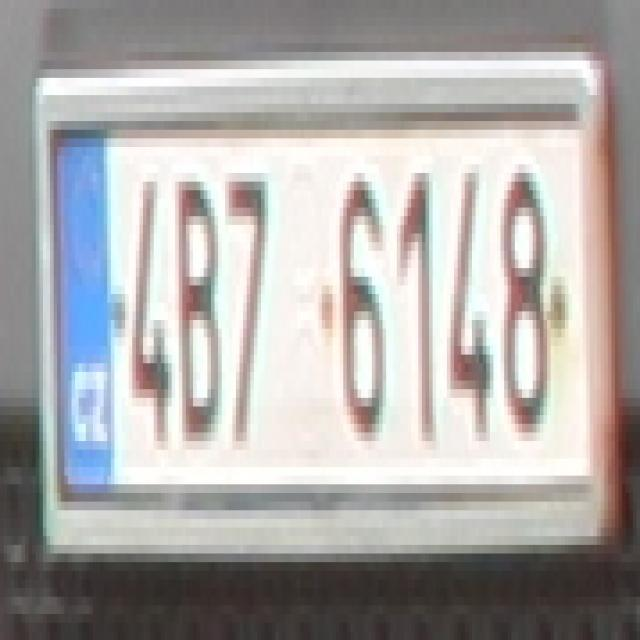1: (393, 164, 436, 450)
4: (443, 165, 497, 432), (128, 173, 172, 441)
6: (336, 182, 386, 432)
7: (222, 173, 268, 441)
8: (500, 156, 548, 424)
B: (172, 173, 222, 441)
